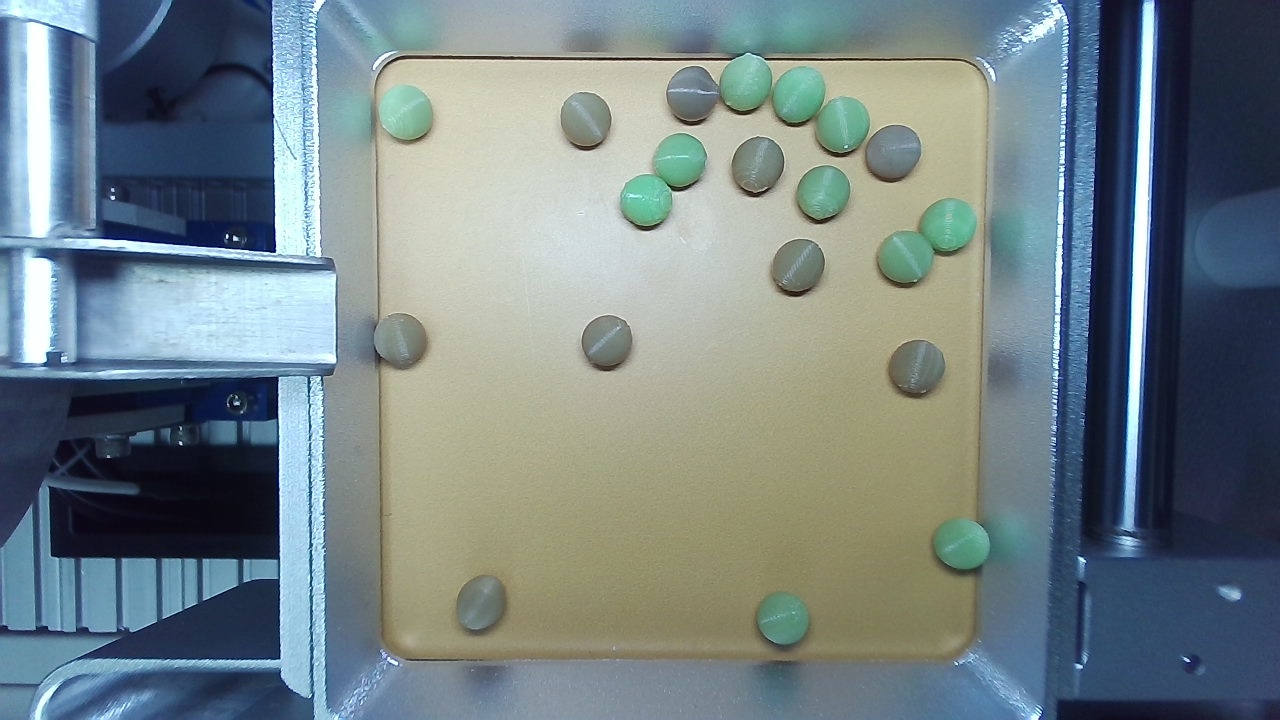XLabel: (685, 334, 722, 370)
YLabel: (463, 334, 499, 369)
none: (395, 406, 560, 572)
transparentempty: (622, 404, 856, 654)
